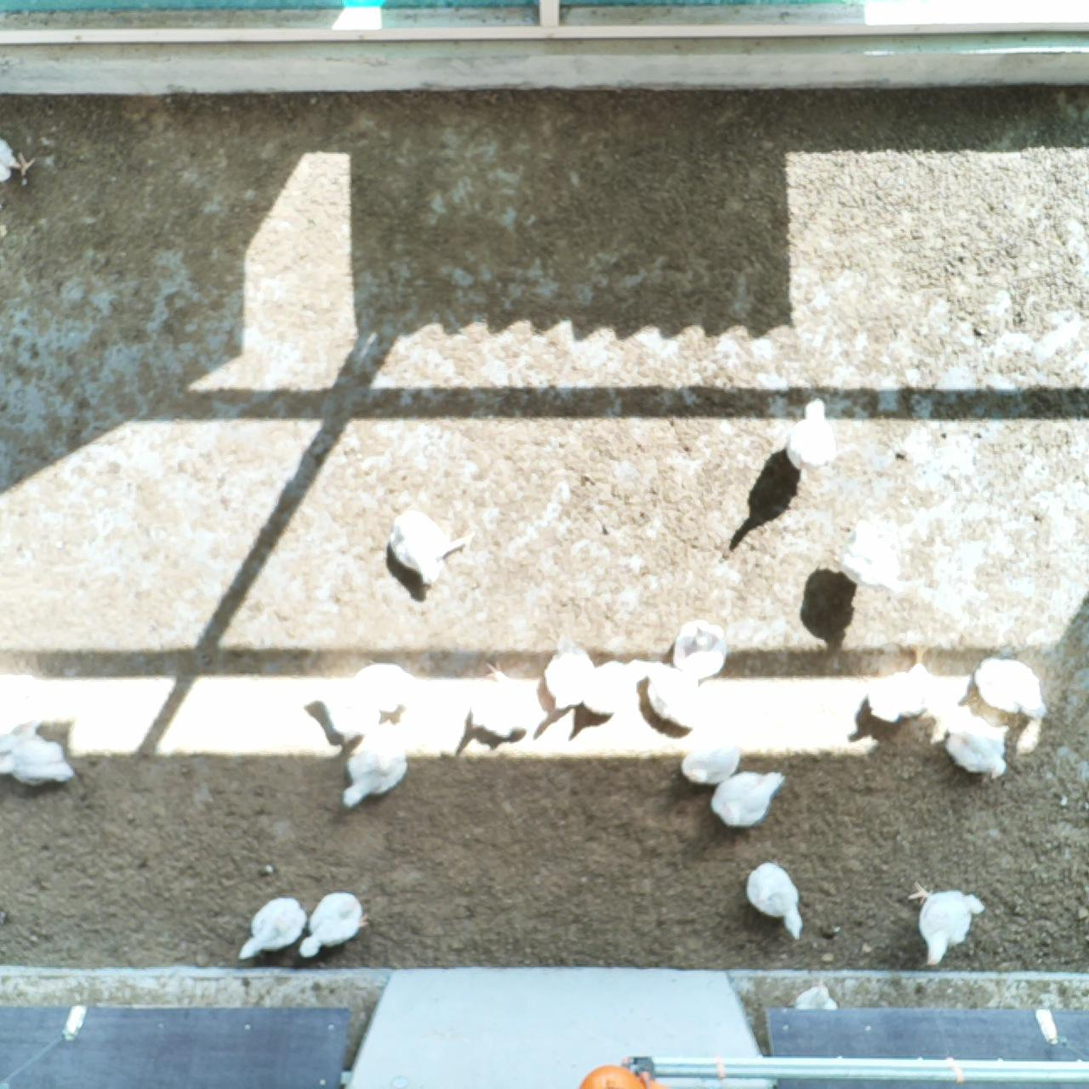chicken: (902, 878, 990, 970), (388, 506, 476, 592), (858, 638, 941, 725), (461, 659, 539, 745), (970, 648, 1052, 724), (741, 857, 810, 946), (297, 886, 375, 959), (338, 733, 409, 813), (337, 657, 421, 723), (708, 768, 791, 834), (780, 394, 845, 476), (234, 894, 307, 965), (579, 657, 653, 723), (947, 711, 1014, 782), (643, 660, 710, 731), (0, 731, 77, 791), (543, 634, 597, 715), (676, 730, 746, 792), (668, 615, 731, 681), (785, 976, 846, 1014)
